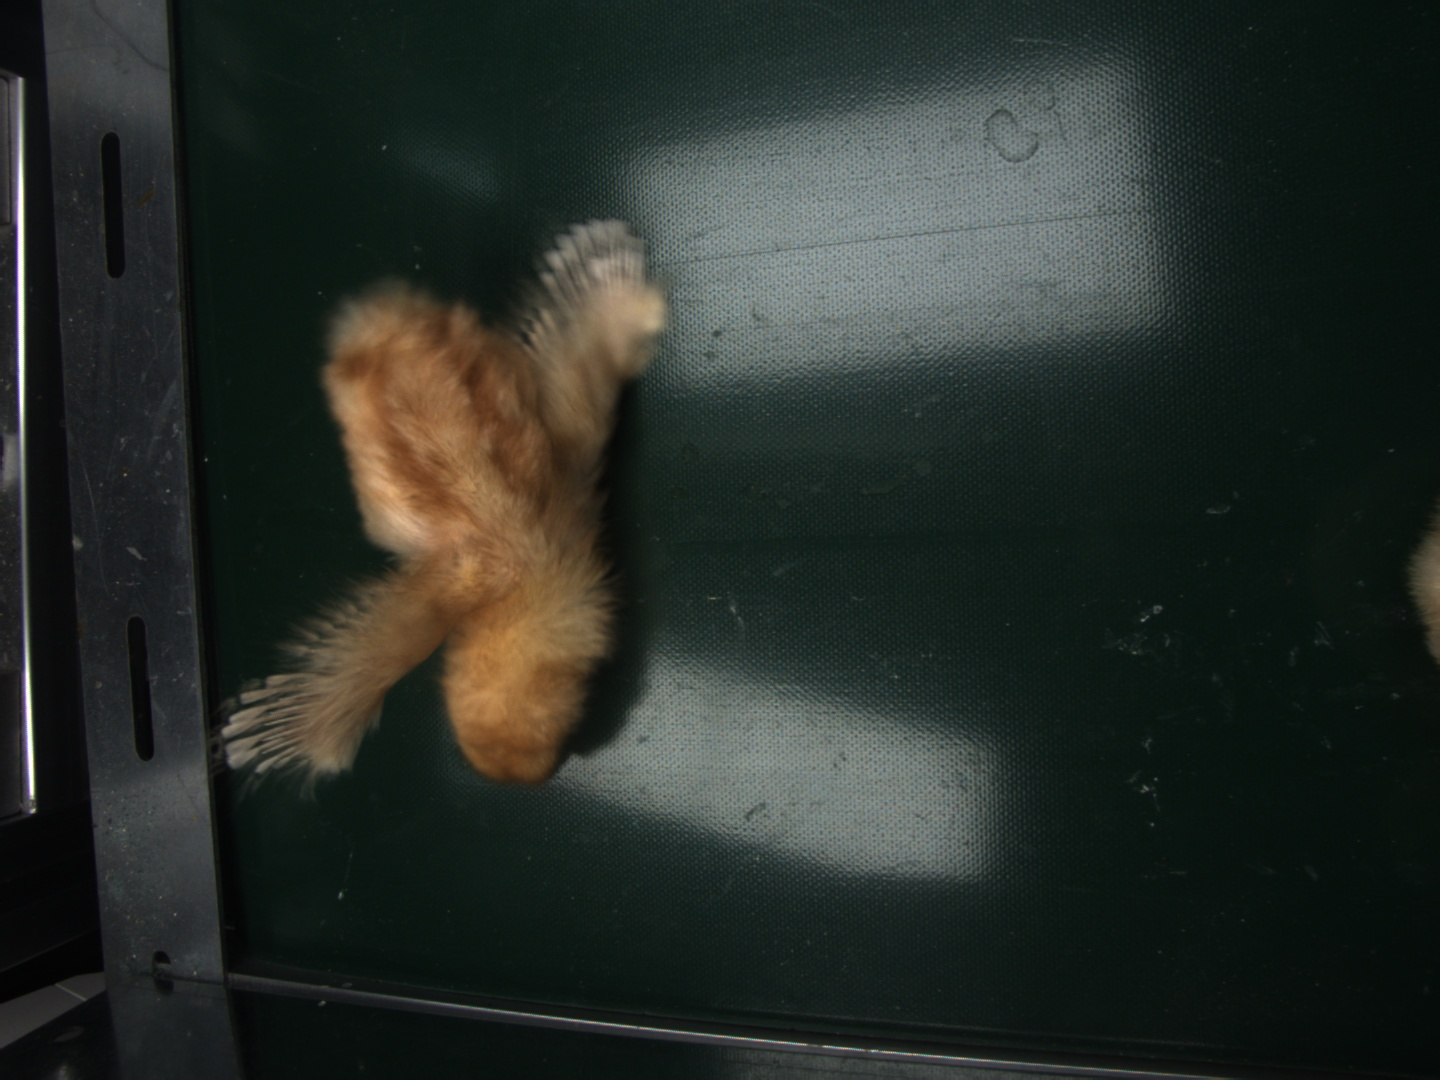female: (223, 677, 316, 782)
